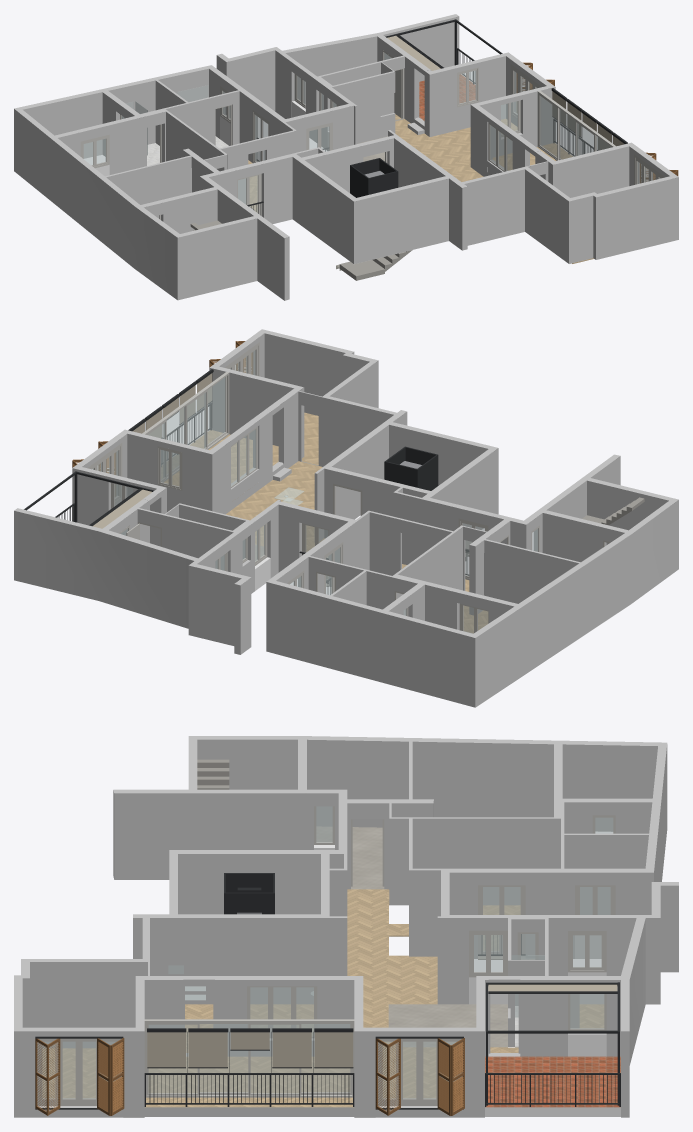
File: architektur.glb
The picture shows the model from 3 angles, top to bottom: view 1: azimuth 30°, elevation 25°; view 2: azimuth 150°, elevation 25°; view 3: azimuth 270°, elevation 25°; orthographic projection. The views are drawn at different scales.
Visible parts, largest first — view 1: architektur; view 2: architektur; view 3: architektur.
Boxes of the visible parts, left/top/right/bottom form: architektur: left=14, top=14, right=678, bottom=300; architektur: left=14, top=329, right=678, bottom=707; architektur: left=14, top=736, right=678, bottom=1117.
Bounding box in the file's own units: 20.34 × 3.73 × 18.85.
Materials: 7 (4 with a texture image).
